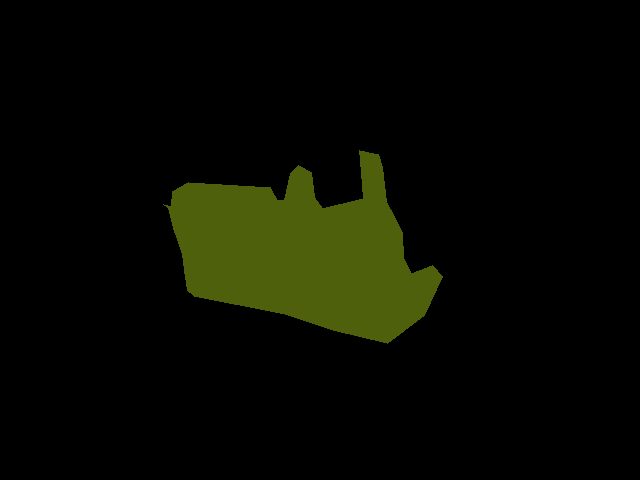Train: (163, 150, 442, 344)
